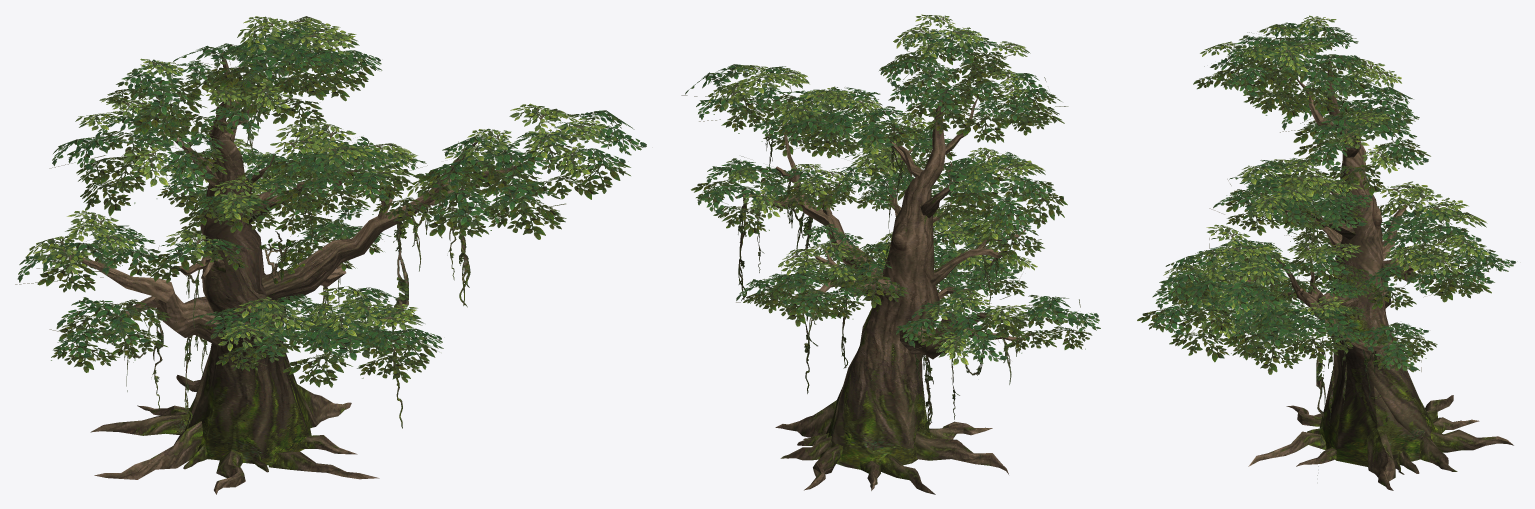
Rendered from Plant_3002_zhiwu01_darongshu.FBX.
The picture shows the model from 3 angles, left to right: view 1: azimuth 30°, elevation 25°; view 2: azimuth 150°, elevation 25°; view 3: azimuth 270°, elevation 25°; orthographic projection. The views are drawn at different scales.
Parts seen in each view (by area): view 1: Plant_3002_zhiwu01_darongshu; view 2: Plant_3002_zhiwu01_darongshu; view 3: Plant_3002_zhiwu01_darongshu.
Part boxes in pixels (bbox=[...]): Plant_3002_zhiwu01_darongshu: bbox=[15, 16, 646, 494]; Plant_3002_zhiwu01_darongshu: bbox=[681, 14, 1100, 494]; Plant_3002_zhiwu01_darongshu: bbox=[1137, 15, 1515, 490].
Bounding box in the file's own units: 907 × 747 × 660.
